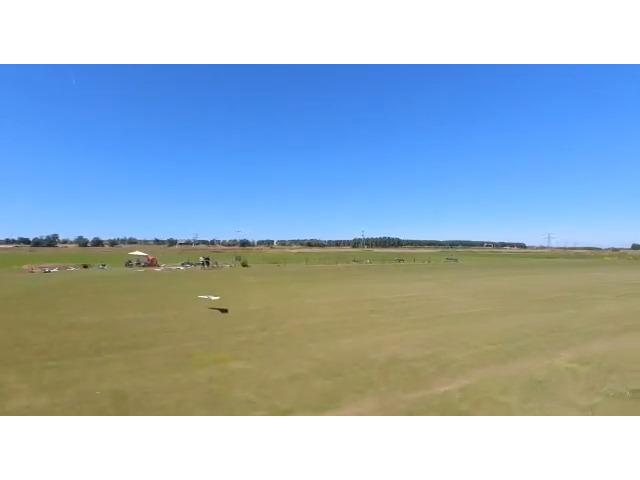Anti-Drone: (194, 290, 228, 304)
